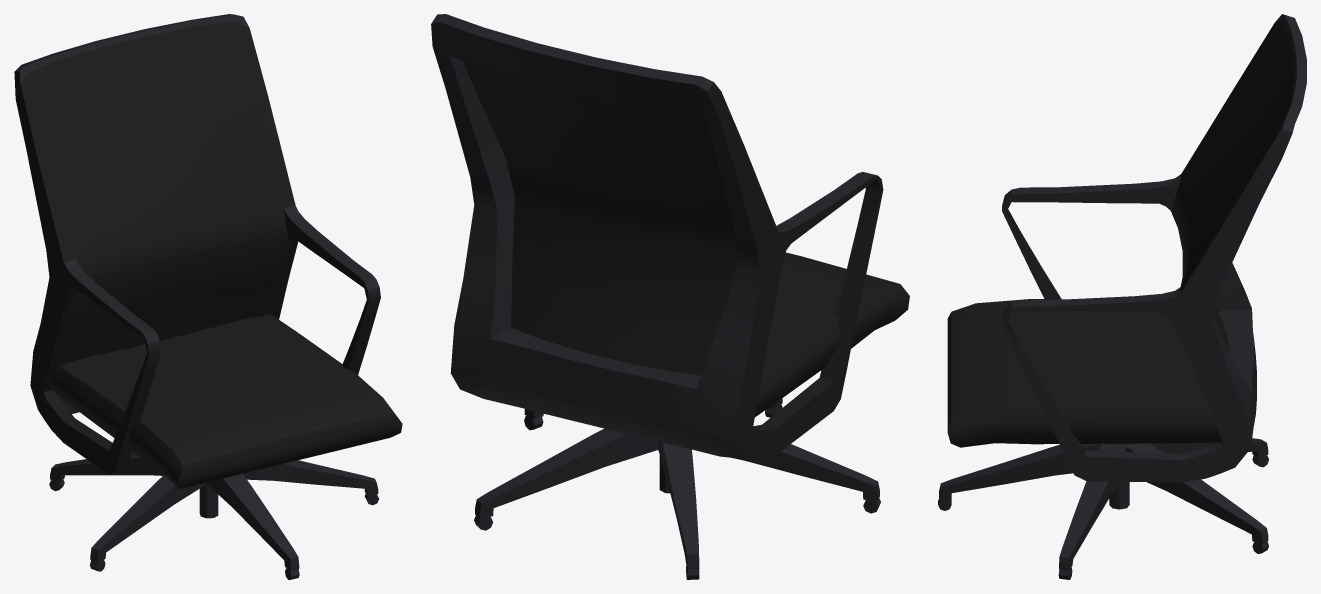
The model's file is multimedia_wheelchair.fbx.
The picture shows the model from 3 angles, left to right: view 1: azimuth 30°, elevation 25°; view 2: azimuth 150°, elevation 25°; view 3: azimuth 270°, elevation 25°; orthographic projection. The views are drawn at different scales.
Visible parts, largest first — view 1: multimedia_wheelchair; view 2: multimedia_wheelchair; view 3: multimedia_wheelchair.
Boxes of the visible parts, x1,y1,x2,y2 form: multimedia_wheelchair: (14,14,402,579); multimedia_wheelchair: (431,14,909,579); multimedia_wheelchair: (938,14,1306,579).
Size of the model in its own units: 0.00645 by 0.00902 by 0.00683.
1 material, 1 textured.
